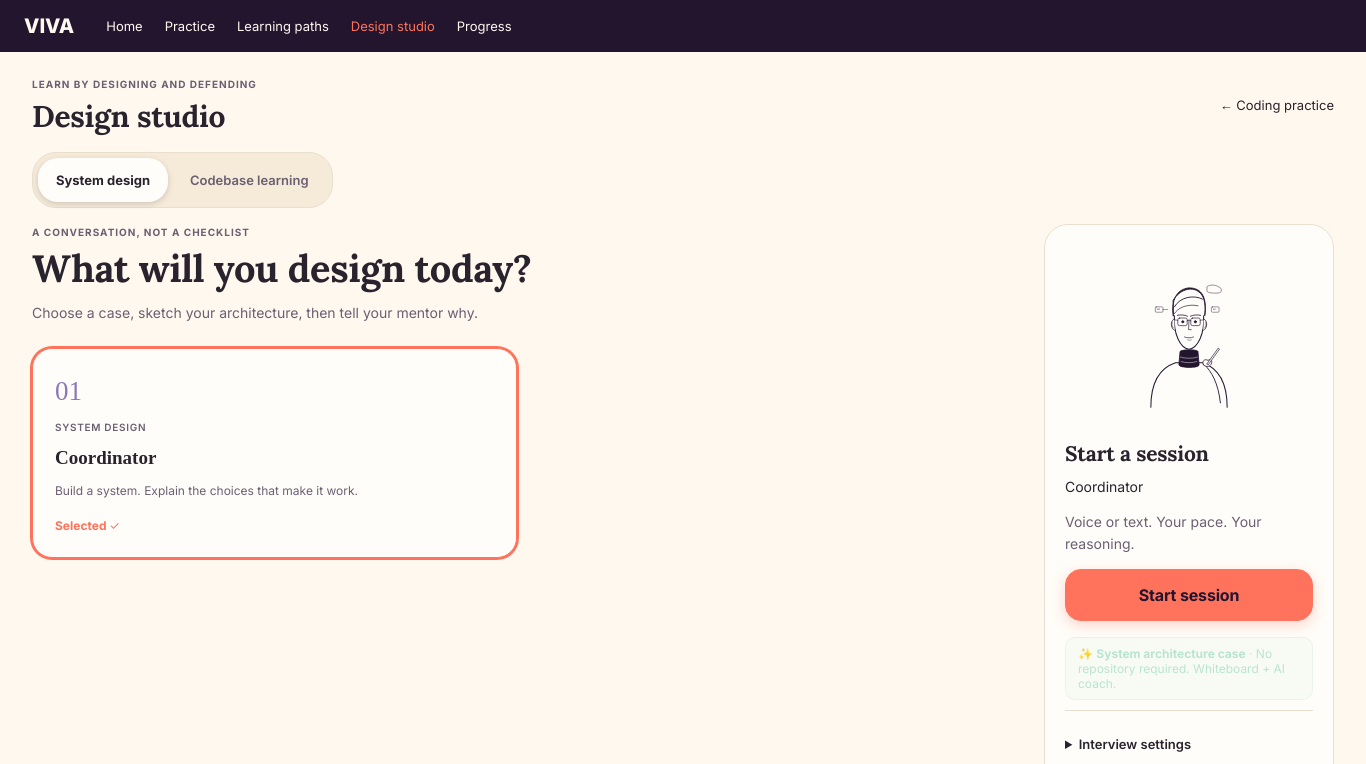
Test: studio review regressions › keeps correction identity through a coach refresh
Later steps or results of the test are not shown.
Expected: the radio button labelled "Coordinator" is shown, x1=32 y1=348 x2=517 y2=558
Click the button "Start session": point(1189, 595) x1=1065 y1=569 x2=1313 y2=621
(page scrolled)
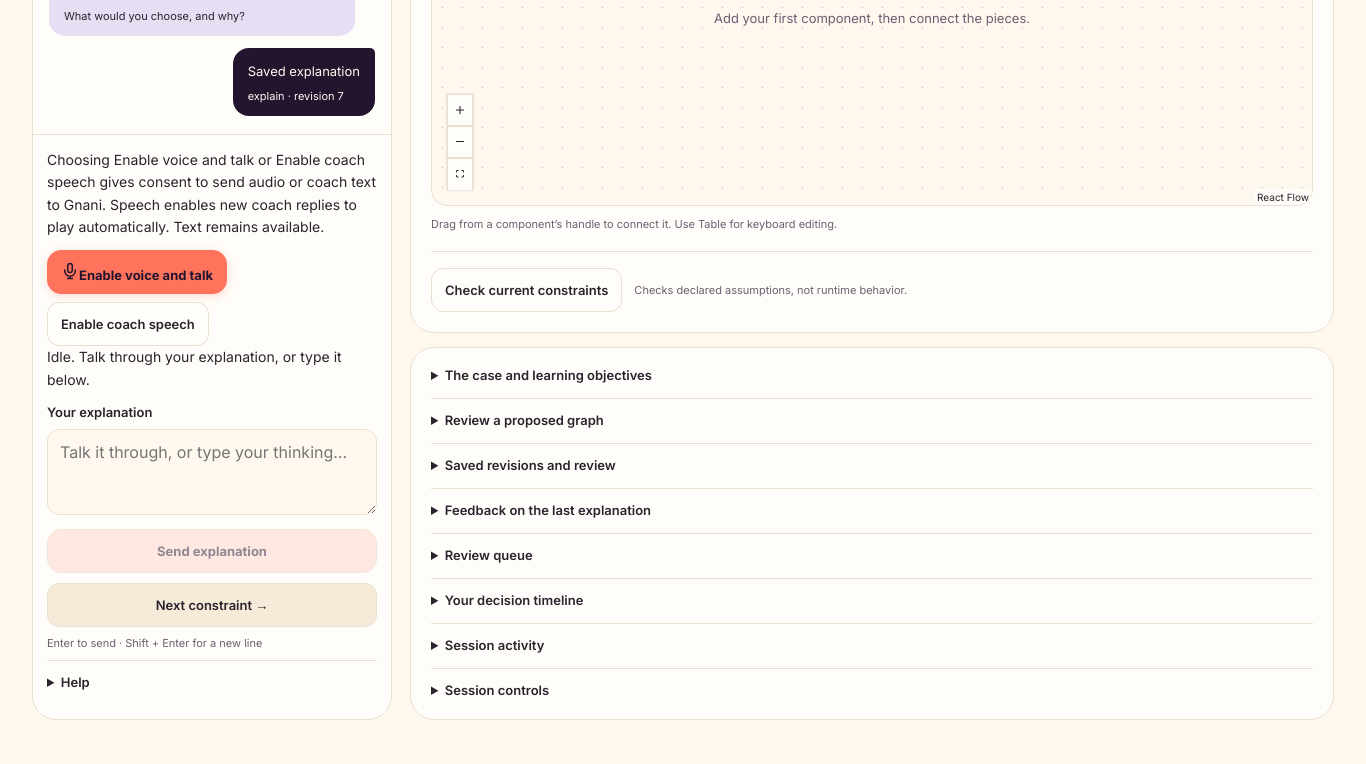
Now the button "Send explanation" is shown, box x1=47 y1=529 x2=377 y2=573
Click the heading "Your decision timeline": point(514, 600) x1=445 y1=592 x2=583 y2=608
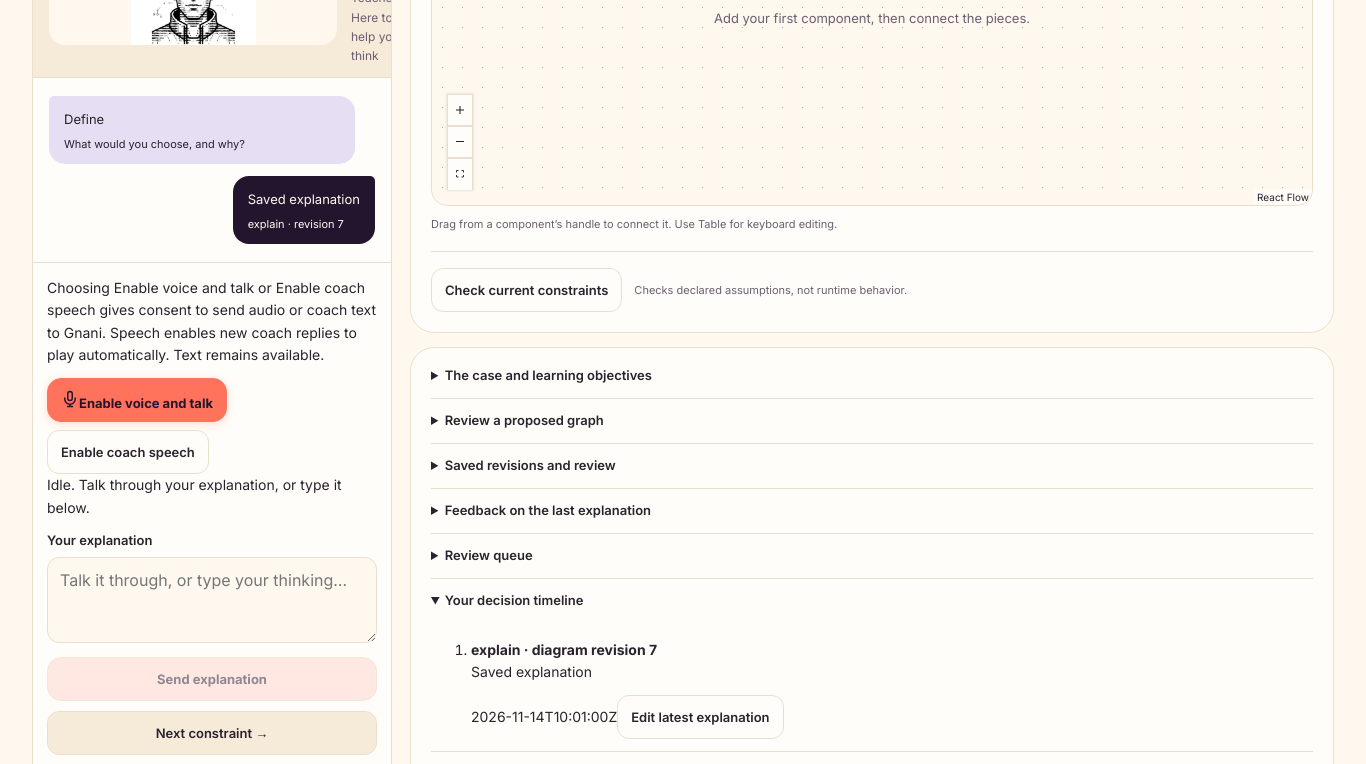
Click the button "Edit latest explanation": point(700, 717) x1=617 y1=695 x2=784 y2=739
(page scrolled)
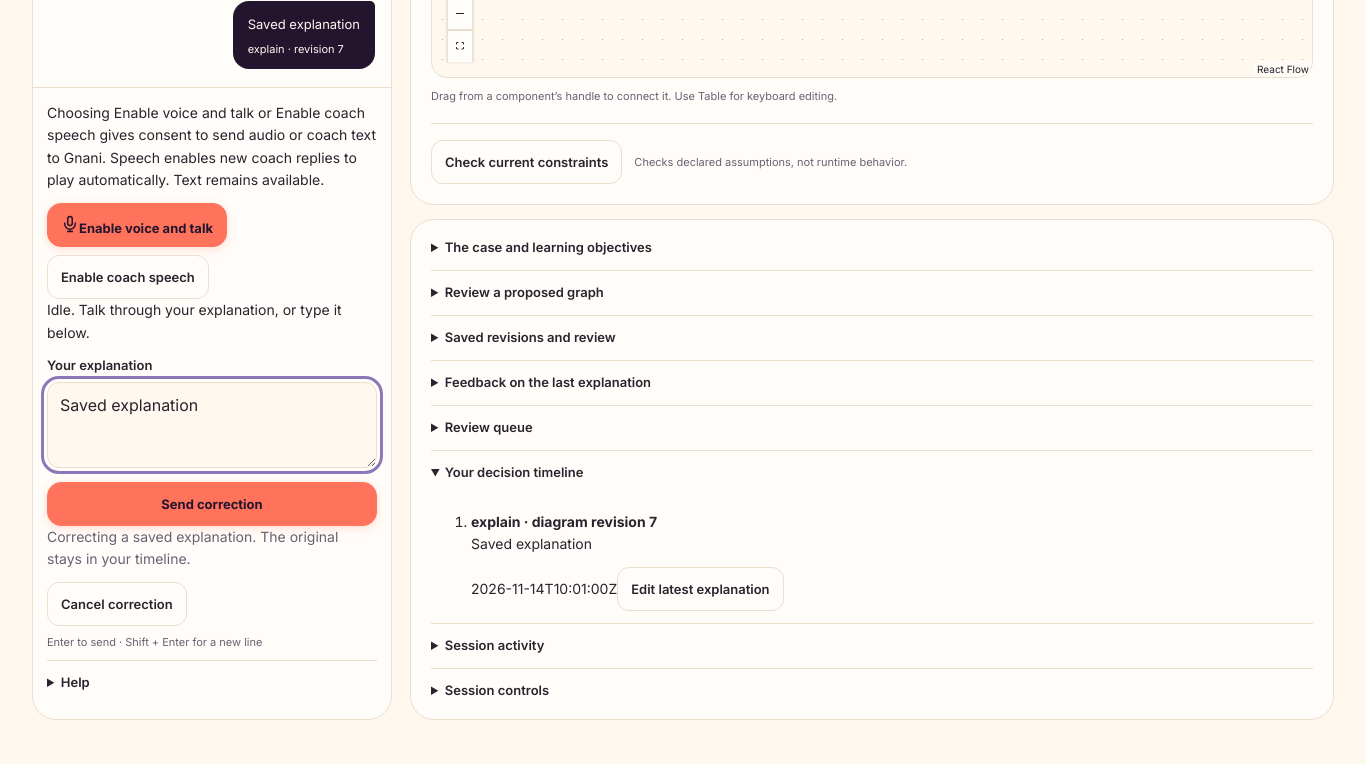
Click the heading "Help": point(75, 682) x1=61 y1=674 x2=90 y2=690
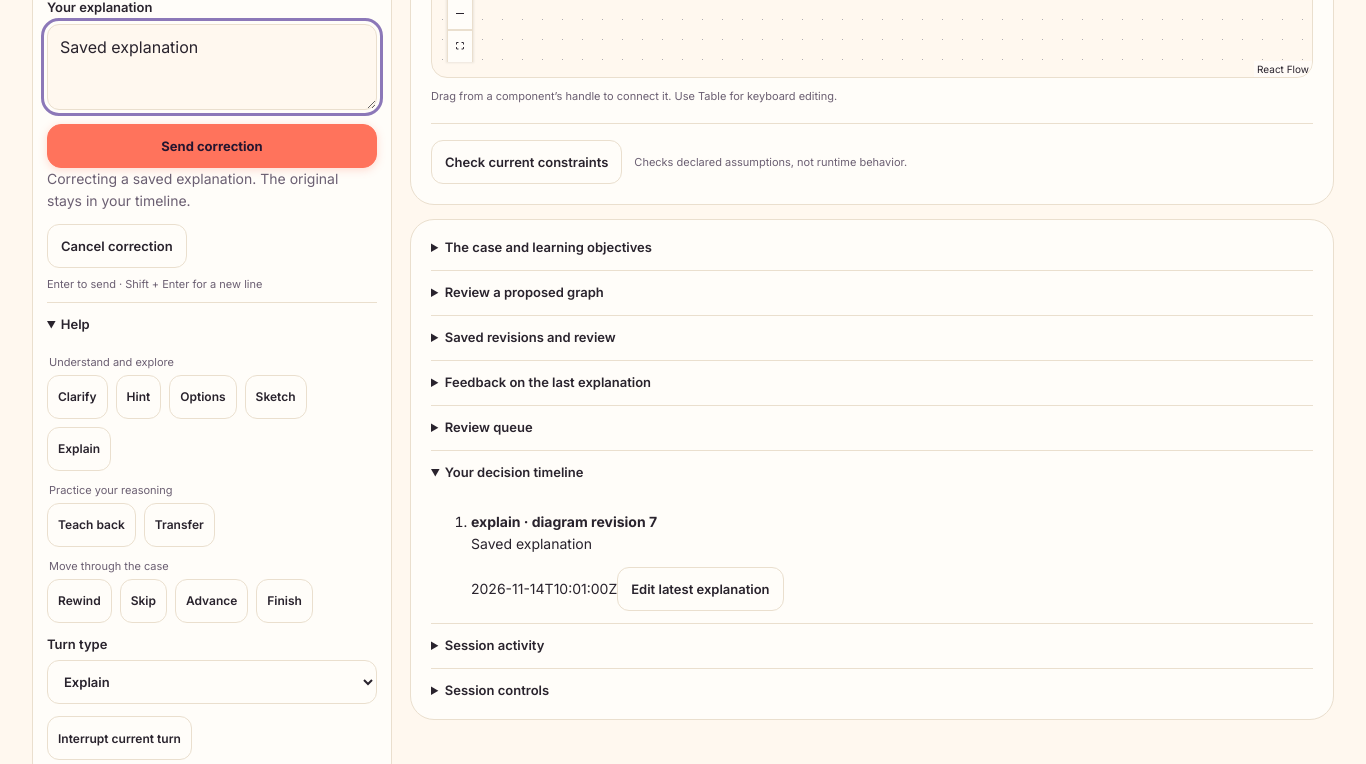
Click the button "Hint": point(138, 397) x1=116 y1=375 x2=161 y2=419
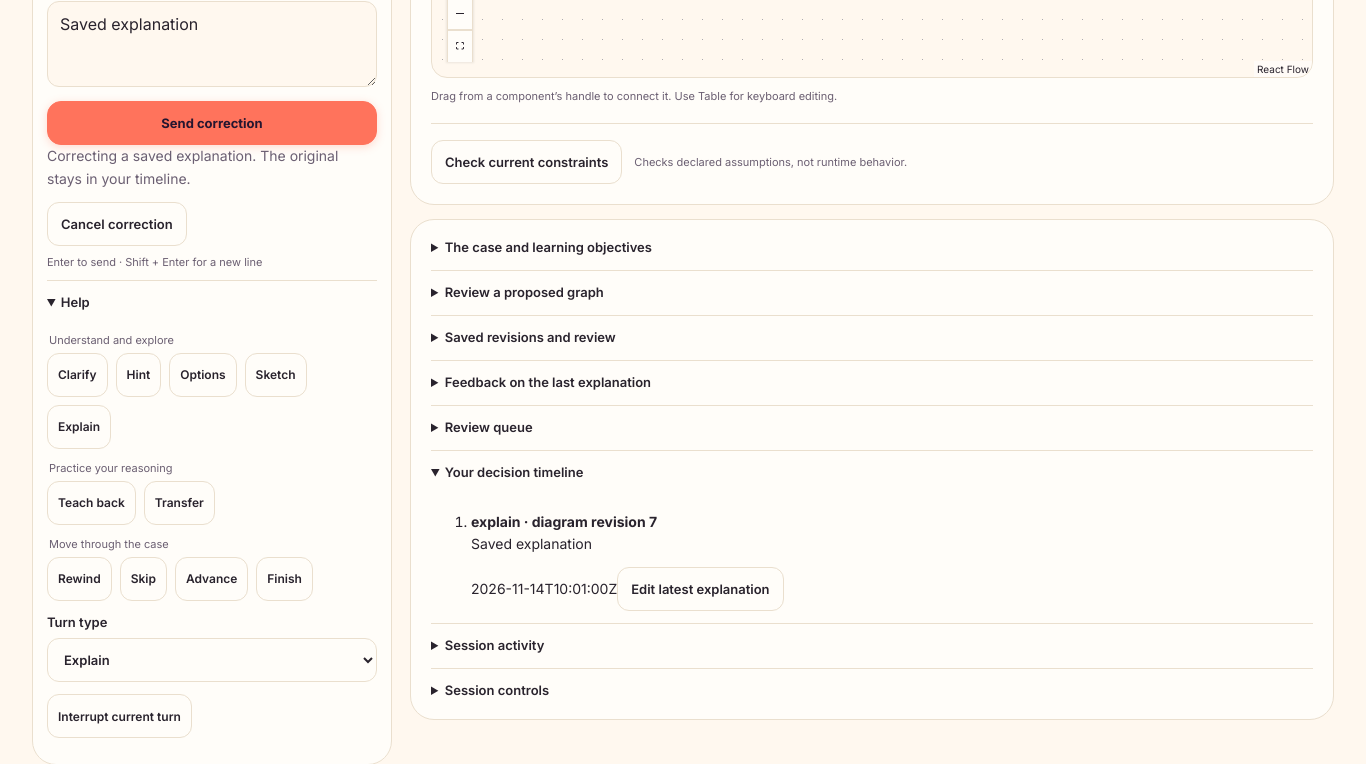
Now the text box labelled "Your explanation" is enabled, box x1=47 y1=1 x2=377 y2=87
